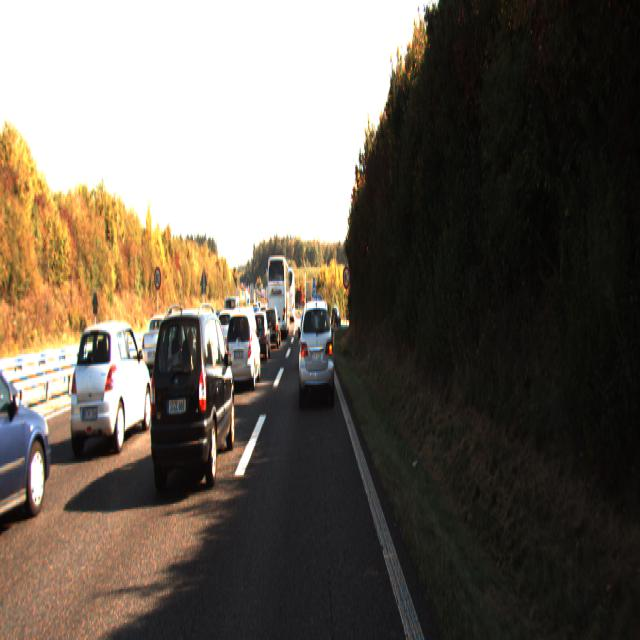Car: (146, 301, 236, 497), (0, 327, 56, 543), (68, 317, 154, 456), (298, 295, 334, 406), (160, 312, 205, 391), (224, 303, 261, 391), (142, 314, 184, 377), (266, 254, 290, 337), (249, 308, 271, 359), (264, 306, 282, 349)
